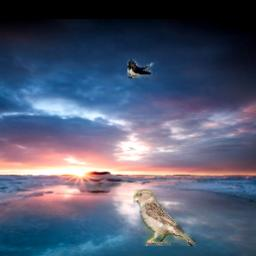Sparrow: (133, 191, 195, 247)
Swallow: (126, 61, 156, 79)
